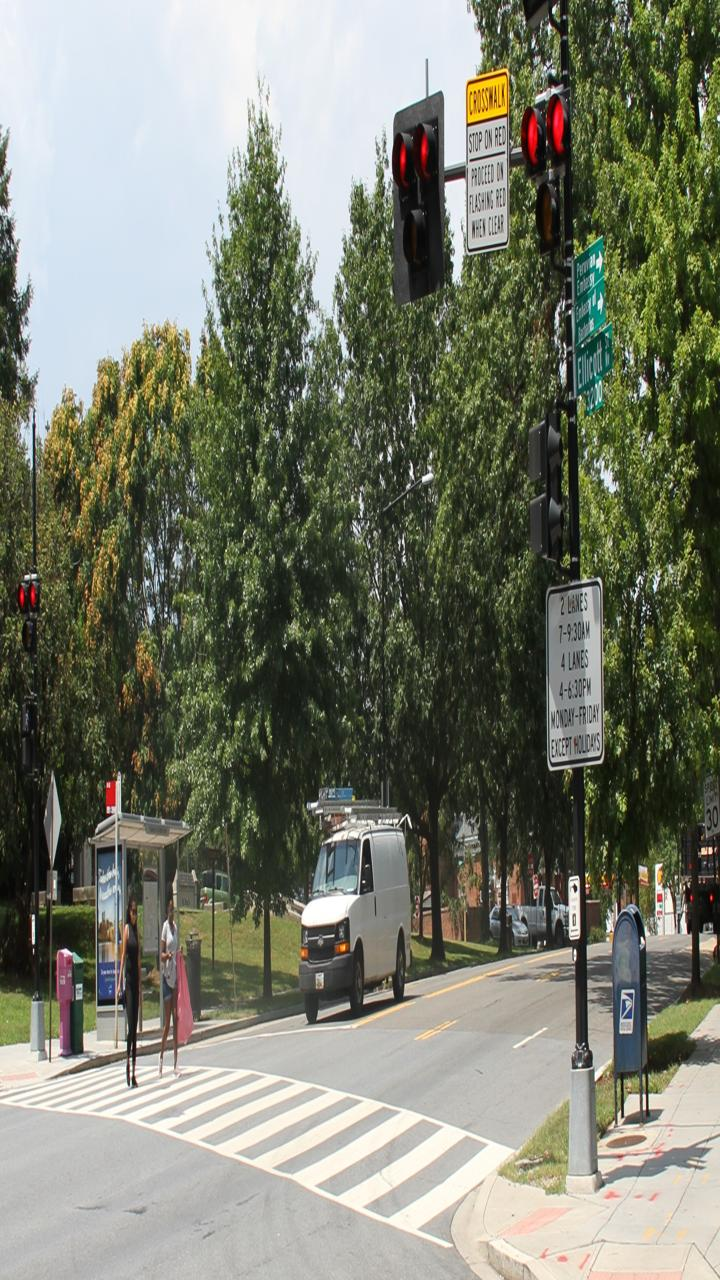Traffic sign: (374, 92, 439, 205), (517, 71, 582, 184)
pedestrian: (102, 883, 150, 1096), (140, 894, 188, 1107)
vehicle: (283, 807, 428, 1023)
